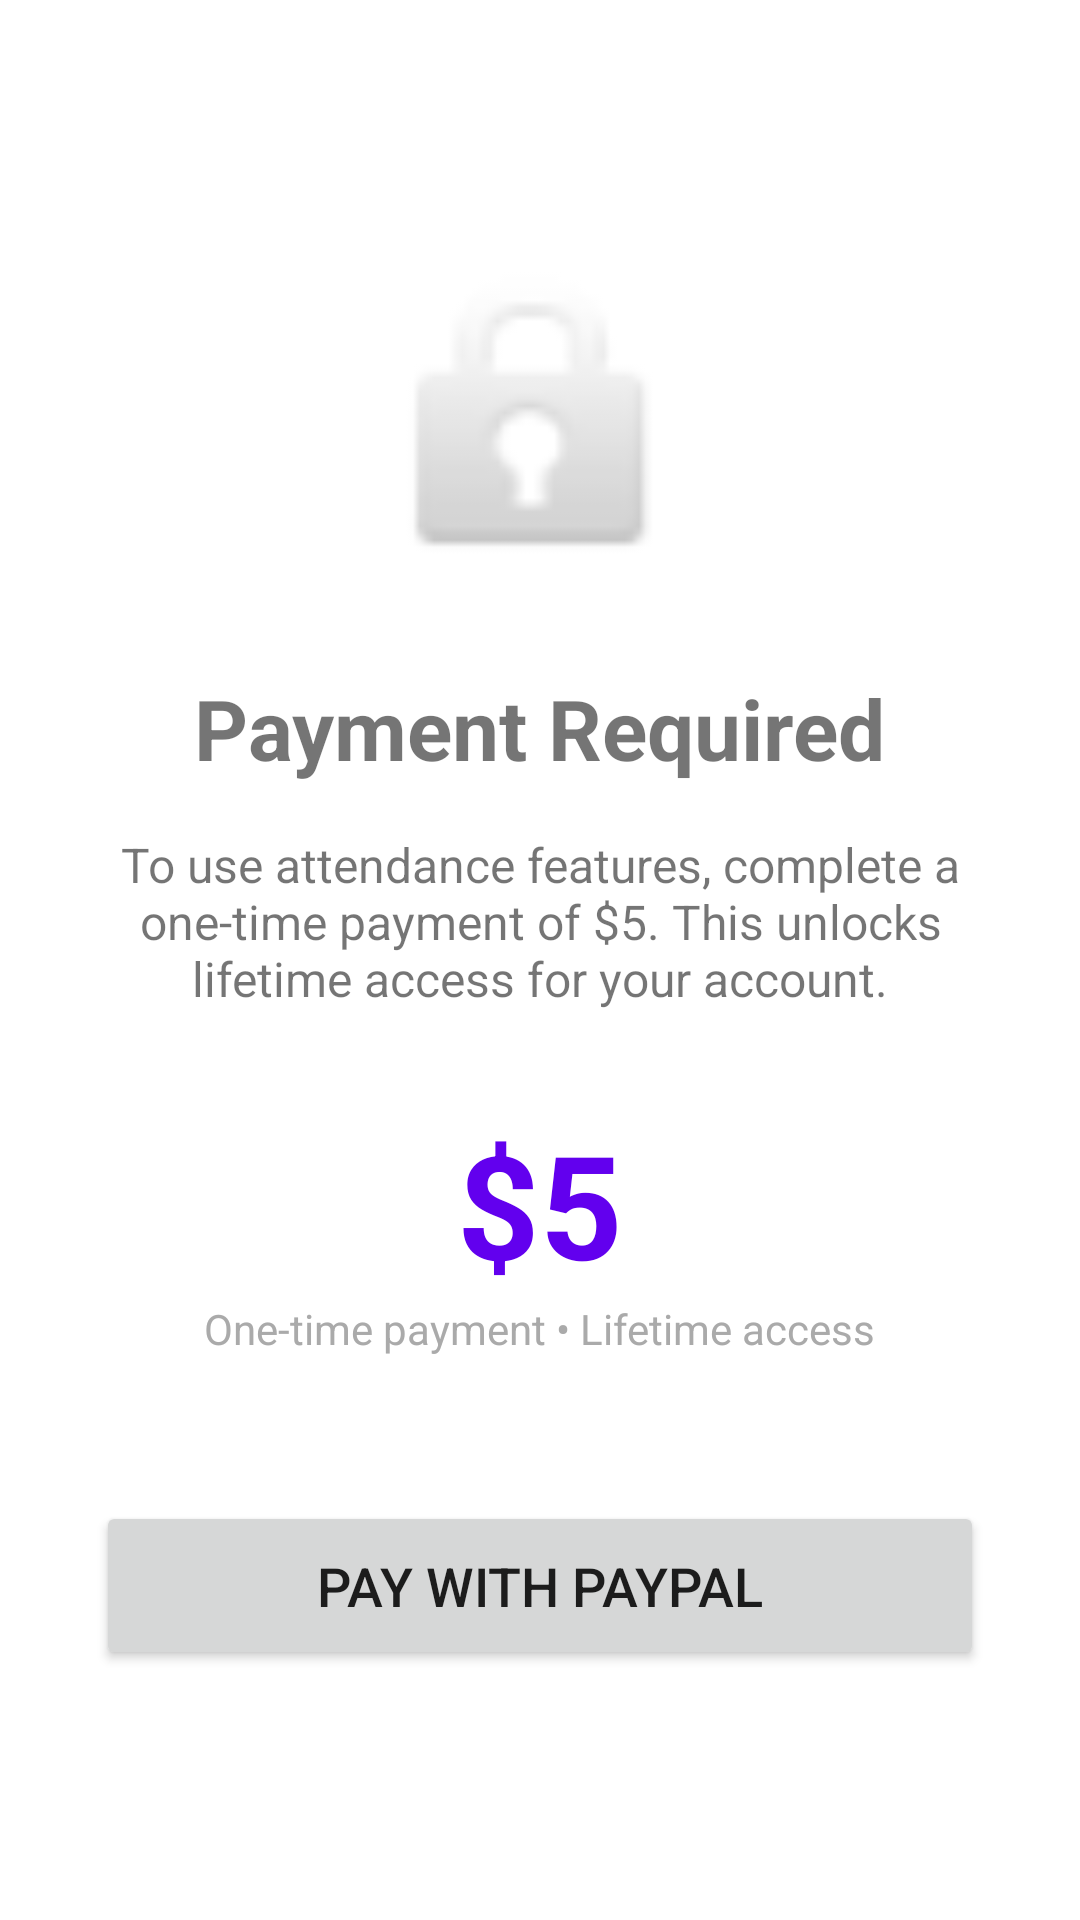

Screen size 1080px x 1920px. Icon name, then its center in pixels as point (x, y):
lock idle: point (530, 467)
